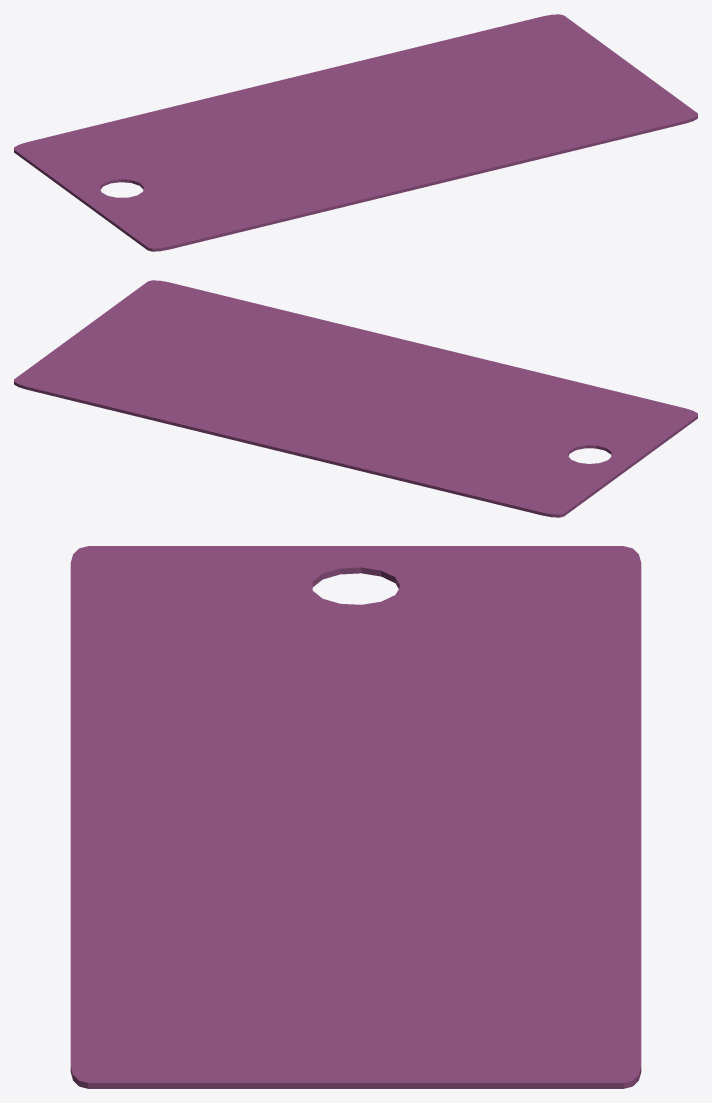
The model's file is Yogaflad.fbx.
3 renders of one model, top to bottom at view 1: azimuth 30°, elevation 25°; view 2: azimuth 150°, elevation 25°; view 3: azimuth 270°, elevation 25°, orthographic. The views are drawn at different scales.
Parts seen in each view (by area): view 1: Plane.001; view 2: Plane.001; view 3: Plane.001.
Boxes of the visible parts, <box> form: Plane.001: <box>14,14,697,251</box>; Plane.001: <box>14,280,697,517</box>; Plane.001: <box>70,546,641,1088</box>.
Bounding box in the file's own units: 388 × 2 × 174.
